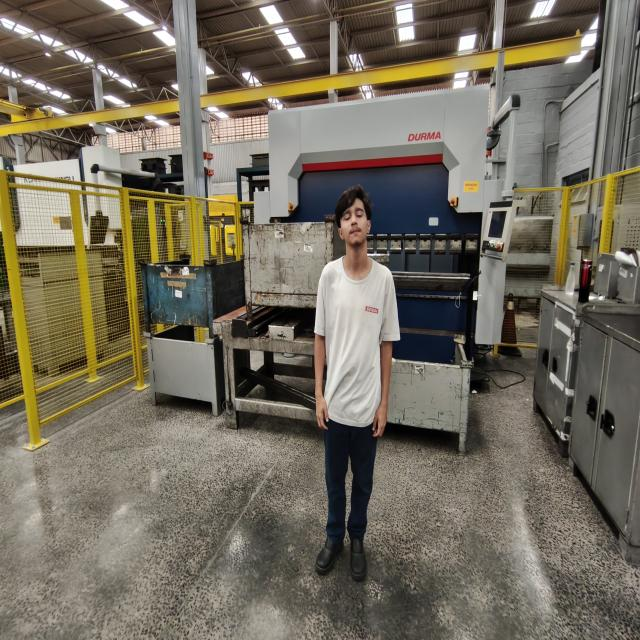sem_oculos: (332, 205, 374, 223)
